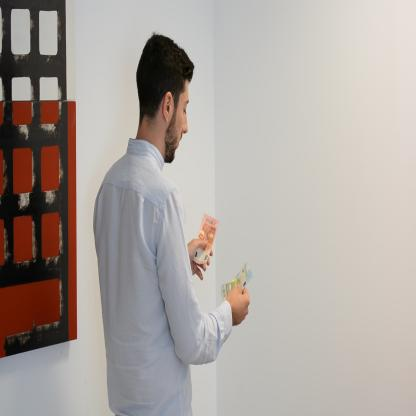billete: (220, 260, 254, 304), (192, 211, 219, 264)
